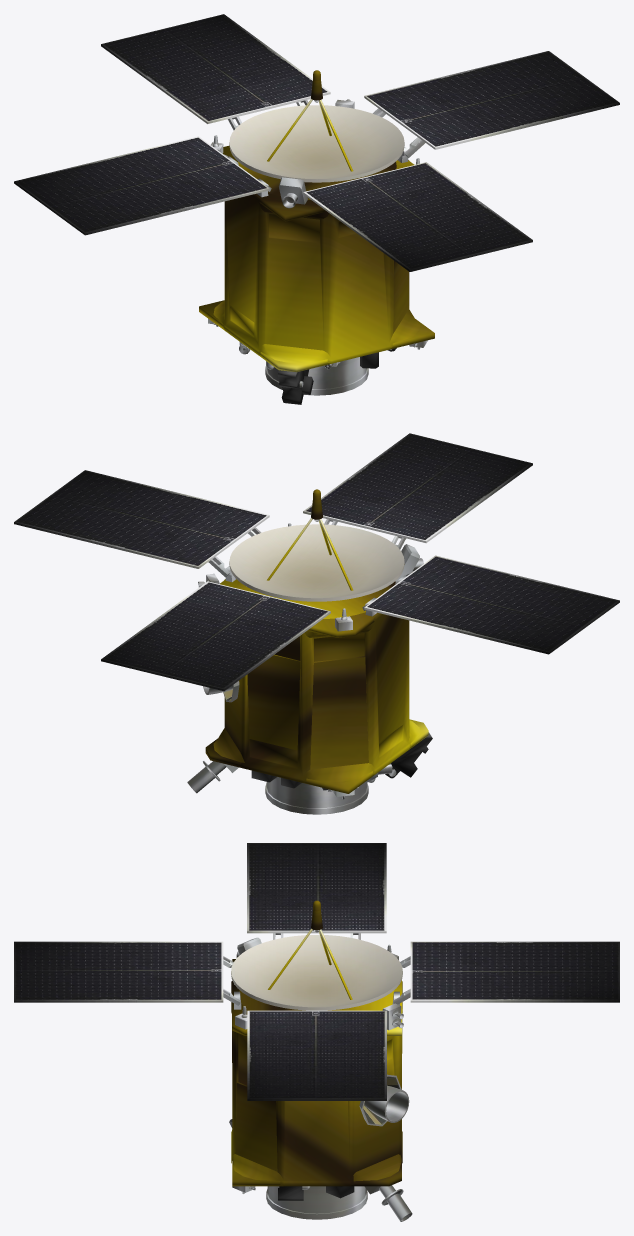
Rendered from near-shoemaker.glb.
The picture shows the model from 3 angles, top to bottom: view 1: azimuth 30°, elevation 25°; view 2: azimuth 150°, elevation 25°; view 3: azimuth 270°, elevation 25°; orthographic projection.
Parts seen in each view (by area): view 1: tex_01, foil_gold, foil_silver; view 2: tex_01, foil_gold, foil_silver; view 3: tex_01, foil_gold, foil_silver.
Boxes of the visible parts, bbox=[...] form: tex_01: bbox=[14, 14, 619, 395]; foil_gold: bbox=[199, 70, 434, 372]; foil_silver: bbox=[277, 348, 396, 404]; tex_01: bbox=[14, 433, 619, 814]; foil_gold: bbox=[205, 489, 428, 793]; foil_silver: bbox=[251, 732, 432, 790]; tex_01: bbox=[14, 843, 619, 1221]; foil_gold: bbox=[231, 900, 402, 1186]; foil_silver: bbox=[229, 1119, 354, 1200].
Bounding box in the file's own units: 5.29 × 2.86 × 5.29.
3 materials, 3 textured.
